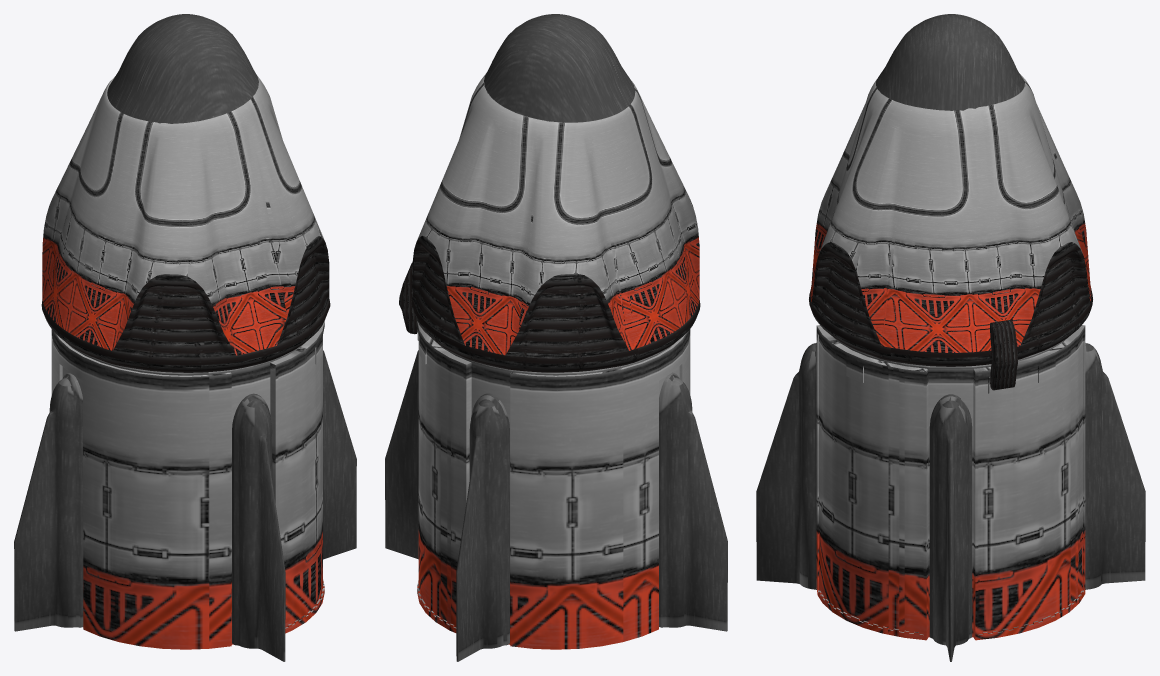
File: Nave.fbx
3 views of the same model, side by side, from view 1: azimuth 30°, elevation 25°; view 2: azimuth 150°, elevation 25°; view 3: azimuth 270°, elevation 25° (orthographic).
Parts seen in each view (by area): view 1: Connection_LowPoly.006; view 2: Connection_LowPoly.006; view 3: Connection_LowPoly.006.
Part boxes in pixels (<box>): Connection_LowPoly.006: <box>14,14,356,661</box>; Connection_LowPoly.006: <box>385,14,727,661</box>; Connection_LowPoly.006: <box>756,14,1145,661</box>.
Bounding box in the file's own units: 472 × 763 × 473.
